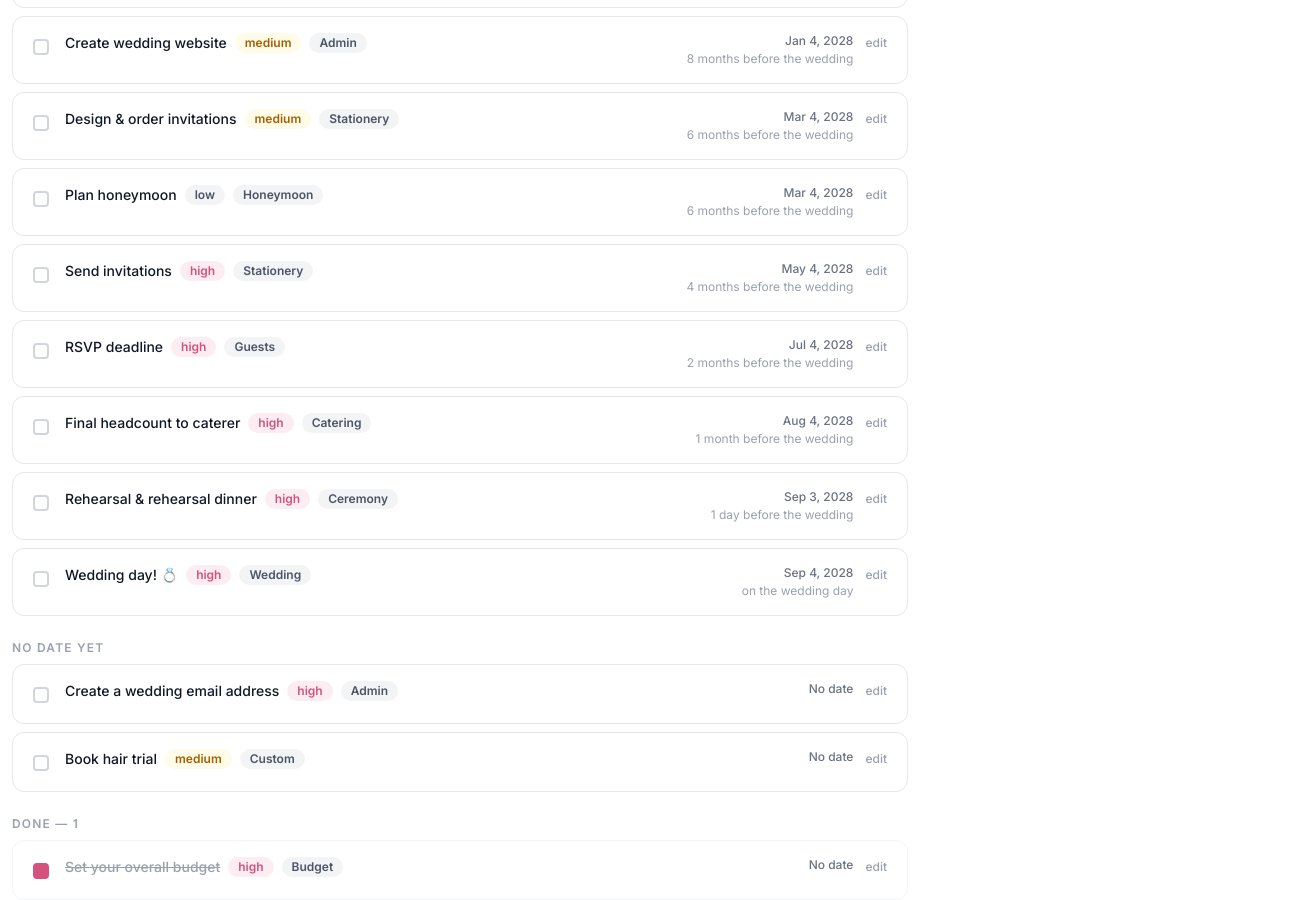
Test case: Timeline — removing an item › removes a user-added task
(page scrolled)
Click the button "edit" in the row of "Custom": (876, 759) [865,751,887,767]
(page scrolled)
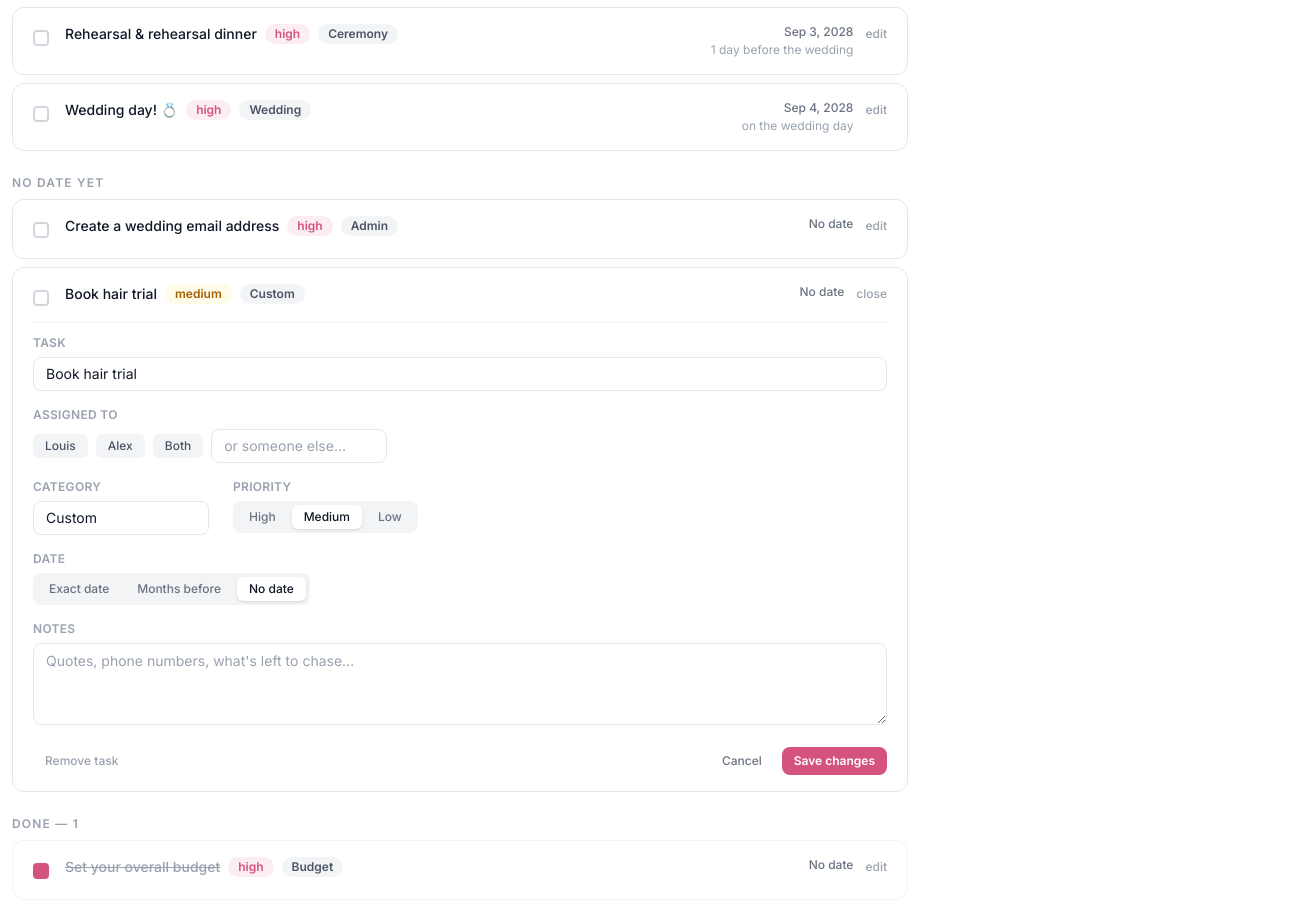
Click the button "Remove task": (82, 761) [33,747,130,775]
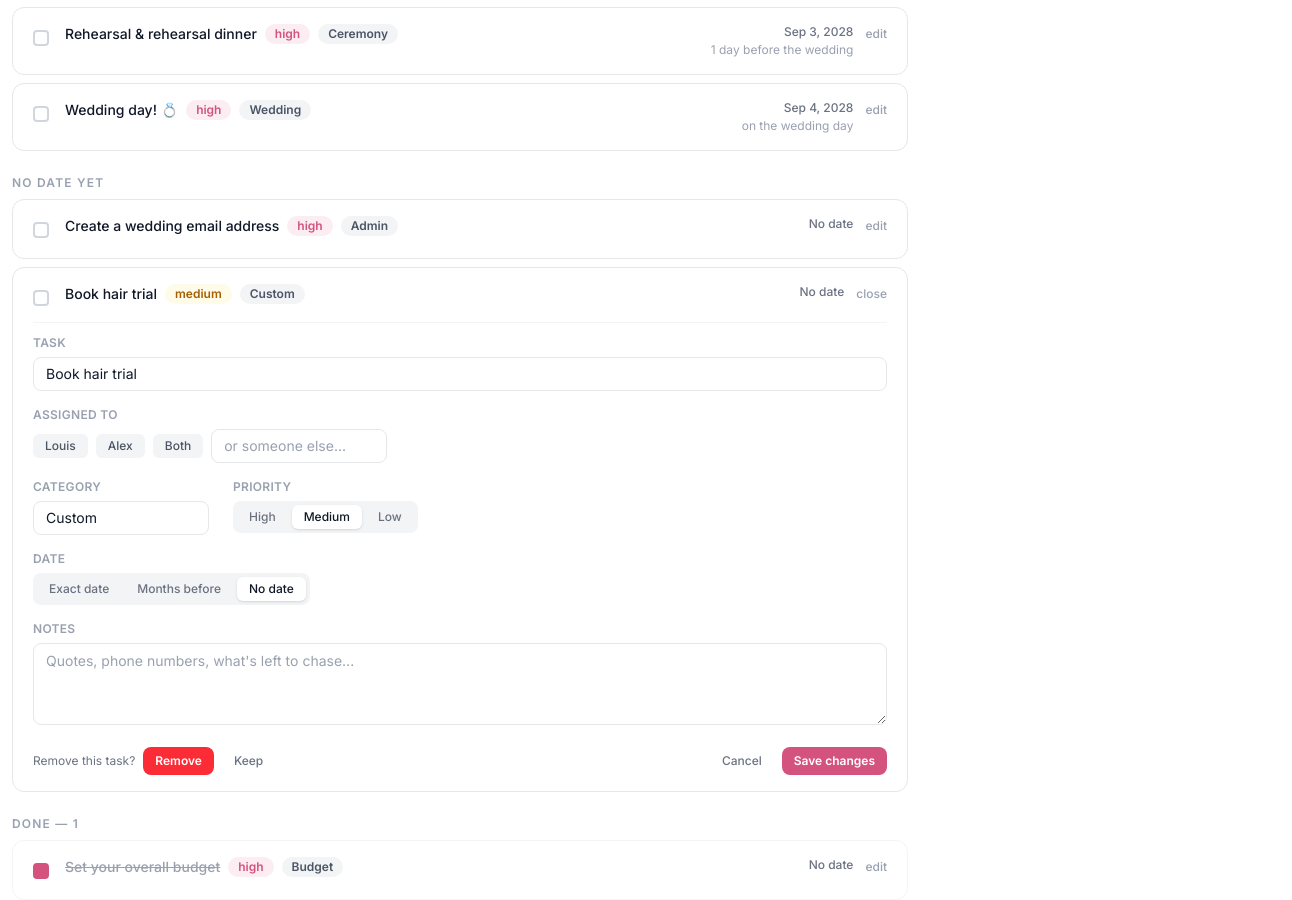
Click the button "Remove": (179, 761) [143,747,214,775]
(page scrolled)
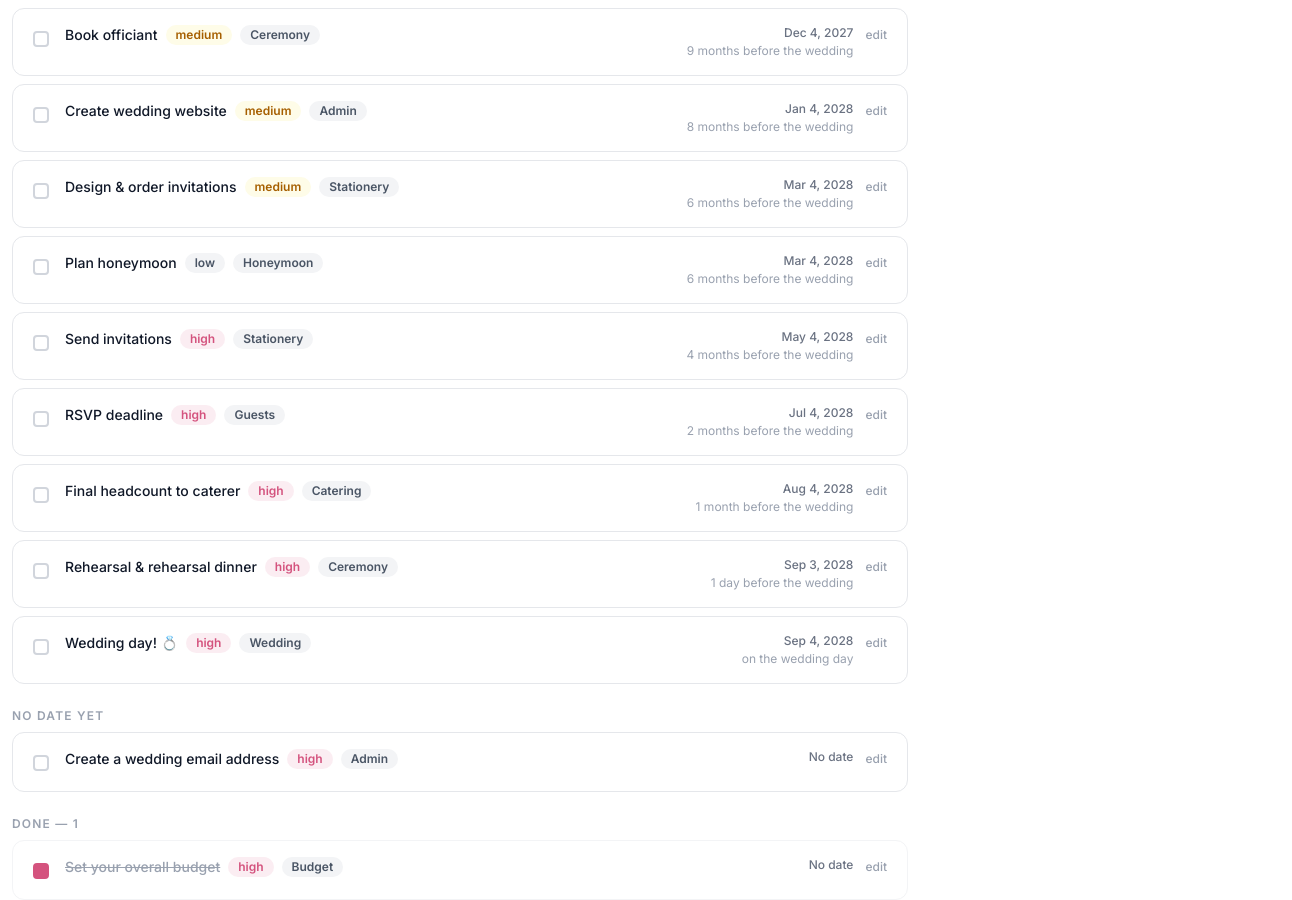
expect the text "Book hair trial" is gone: met
